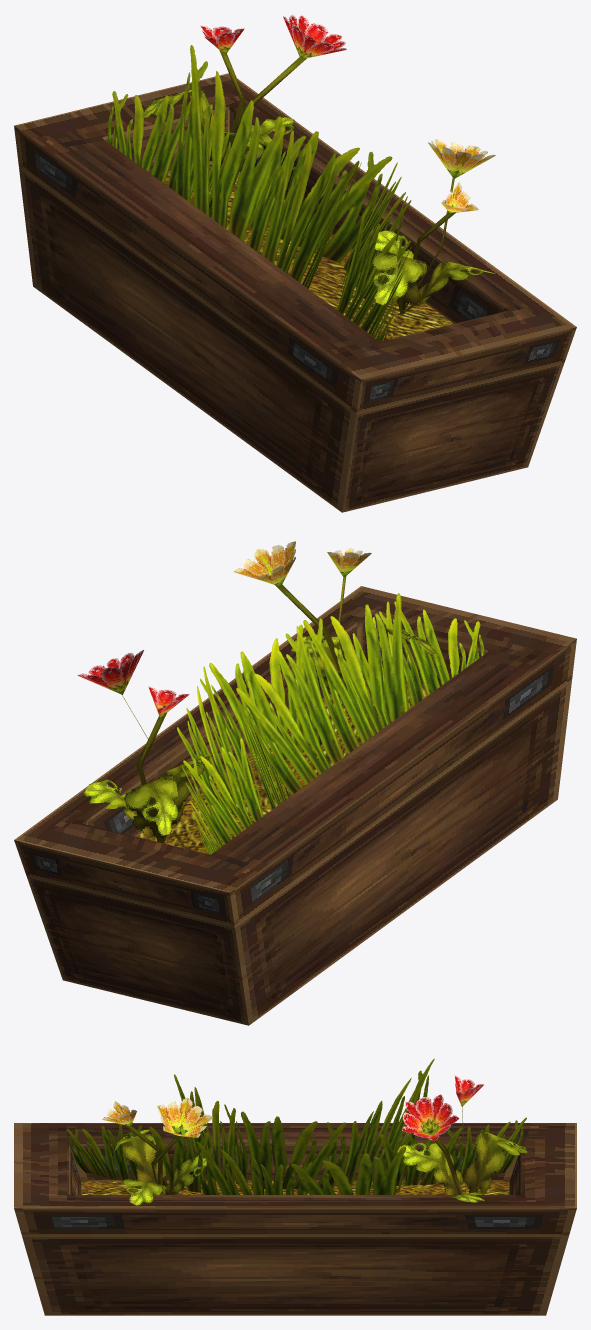
Rendered from stormwindwindowplanterb.obj.
The picture shows the model from 3 angles, top to bottom: view 1: azimuth 30°, elevation 25°; view 2: azimuth 150°, elevation 25°; view 3: azimuth 270°, elevation 25°; orthographic projection. The views are drawn at different scales.
Visible parts, largest first — view 1: Geoset3, Geoset2, Geoset0, Geoset4, Geoset1; view 2: Geoset3, Geoset2, Geoset0, Geoset1, Geoset4; view 3: Geoset3, Geoset2, Geoset0, Geoset1, Geoset4.
Part boxes in pixels (x1,y1,x2,y2): Geoset3: (14,73,576,512); Geoset2: (107,45,411,341); Geoset0: (144,50,495,314); Geoset4: (164,164,453,341); Geoset1: (200,14,495,213); Geoset3: (14,586,576,1025); Geoset2: (177,593,484,854); Geoset0: (83,576,436,843); Geoset1: (77,541,371,717); Geoset4: (137,683,427,854); Geoset3: (14,1123,576,1315); Geoset2: (66,1058,526,1194); Geoset0: (113,1106,527,1205); Geoset1: (102,1075,483,1141); Geoset4: (81,1181,509,1194).
Size of the model in its own units: 2.26 by 2.46 by 5.62.
Materials: 5 (5 with a texture image).
